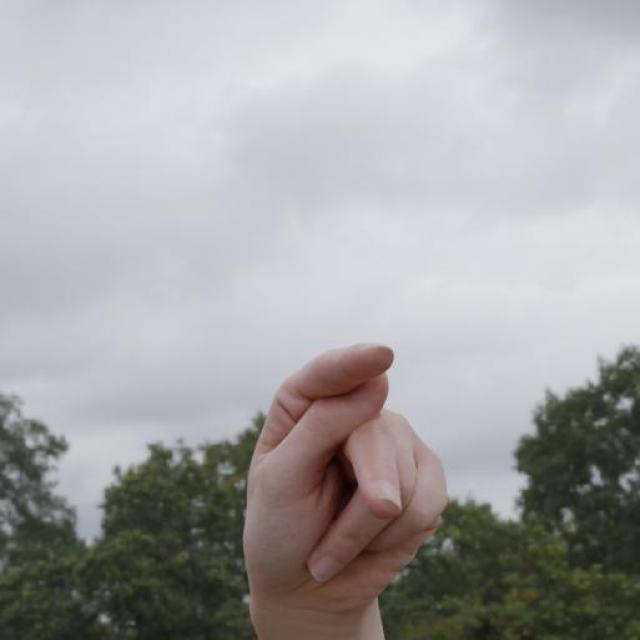P: (199, 317, 480, 640)
